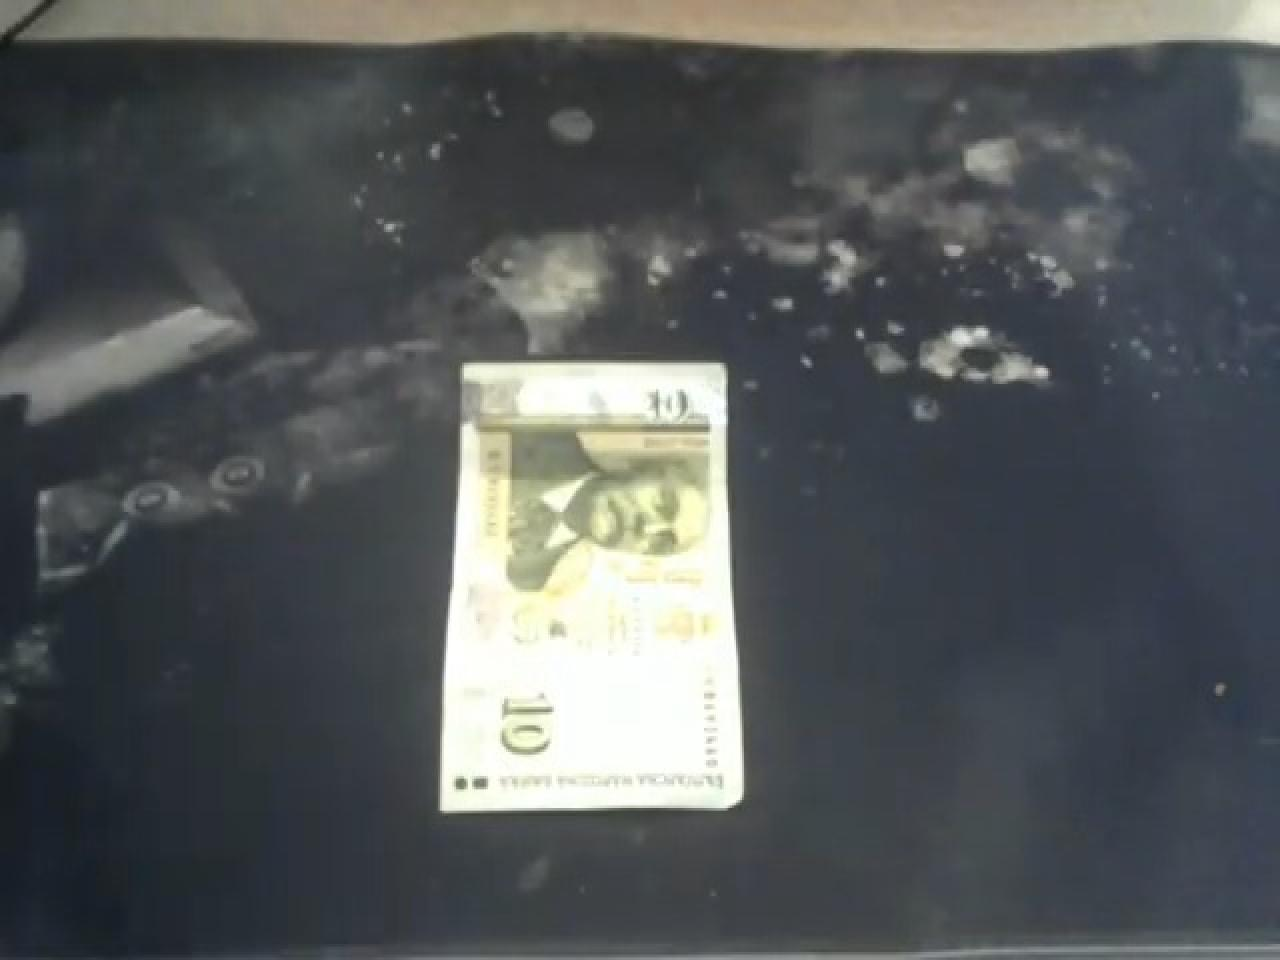10leva: (473, 669, 567, 783)
